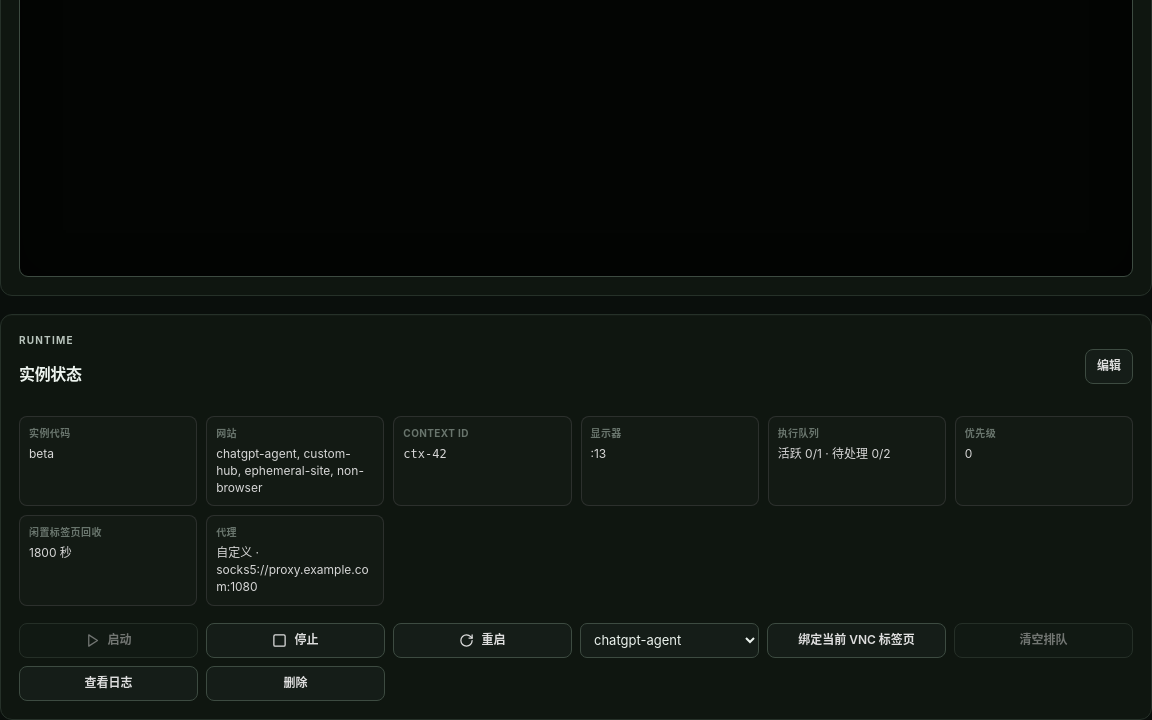
Test: InstanceDetailPage › confirms and binds an arbitrary selected third-party persistent site route with dynamic text
The image size is (1152, 720).
(page scrolled)
Select "custom-hub" in the dropdown named "绑定目标网站" at (670, 640), box [580,623,759,658]
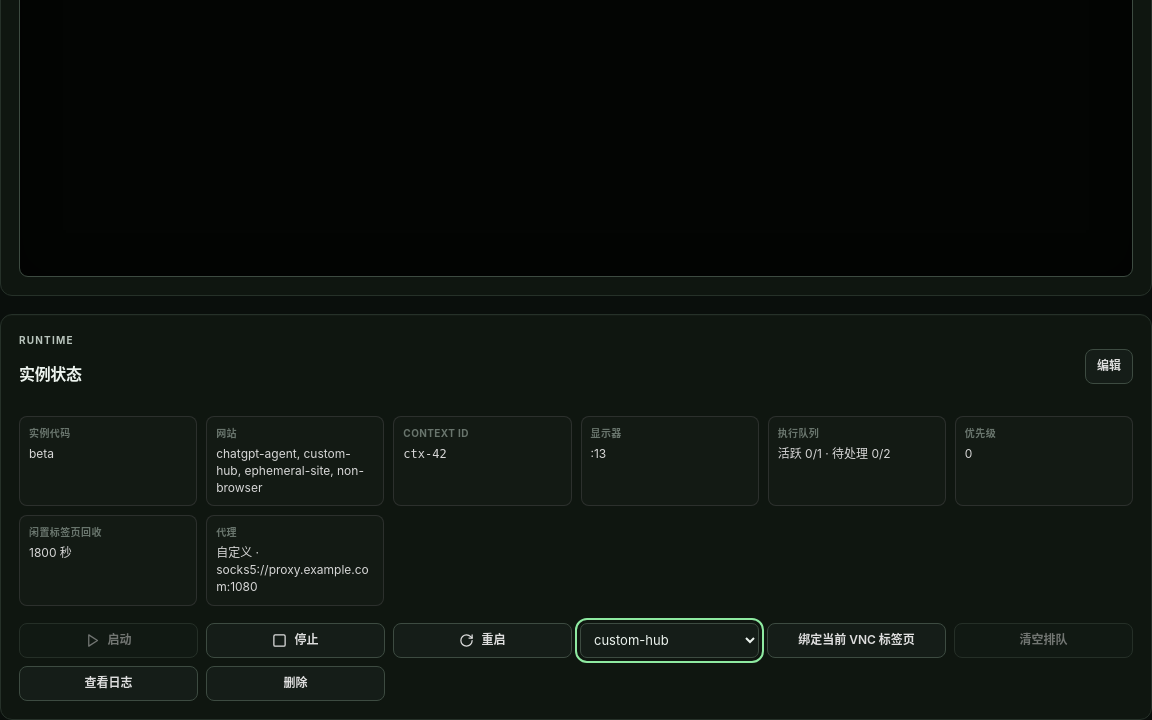
Click the button "绑定当前 VNC 标签页".
click(856, 640)  # box [767,623,946,658]
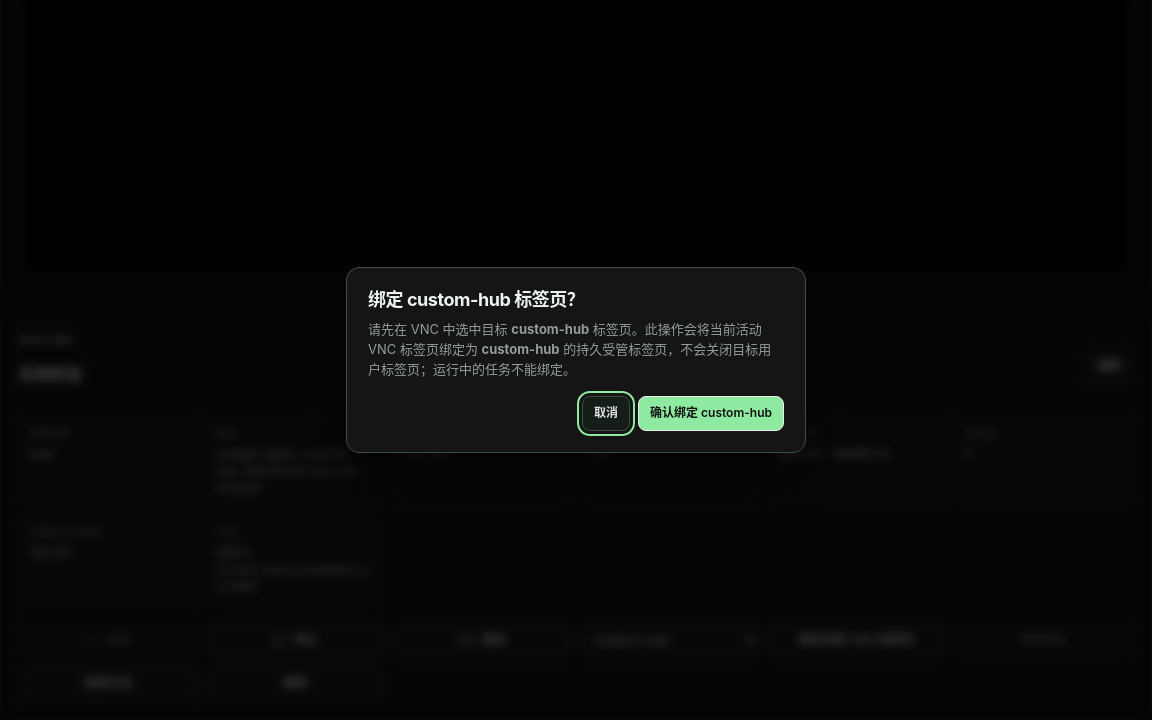
Check: the heading "绑定 custom-hub 标签页？" is shown, box [368,290,584,310]
Check: the text "请先在 VNC 中选中目标" shows "custom-hub", box [511,321,589,337]
Click the button "确认绑定 custom-hub".
click(711, 413)  # box [638,396,784,430]
(page scrolled)
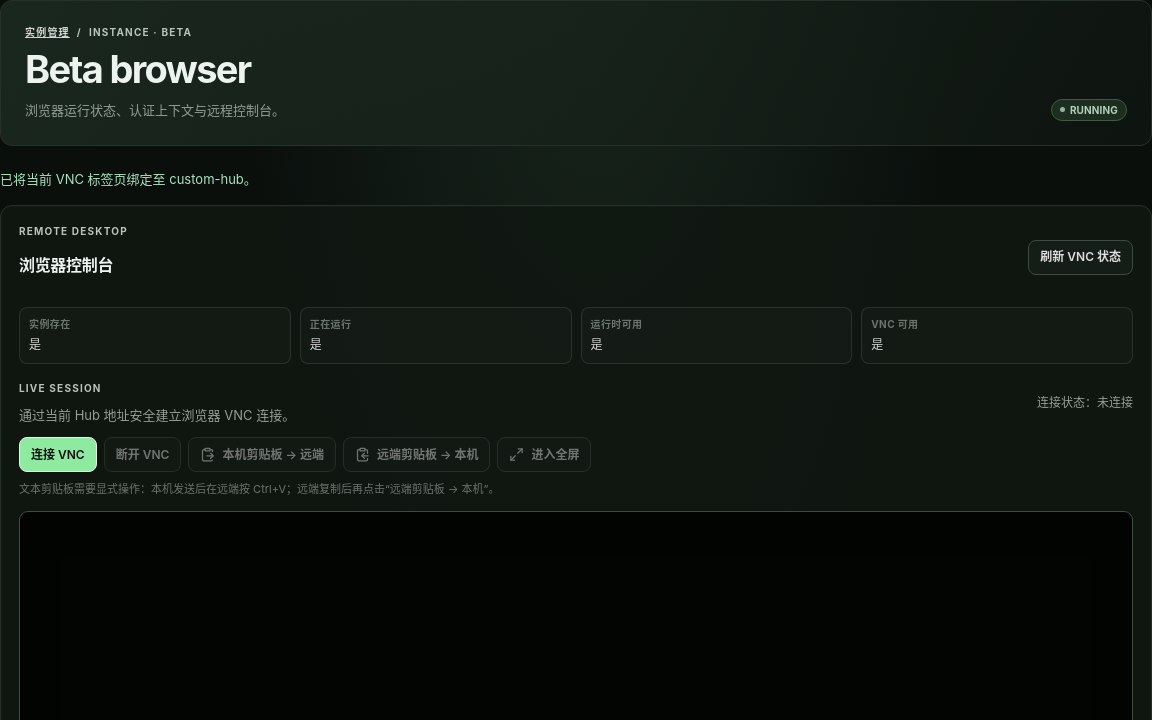
Check: the text "已将当前 VNC 标签页绑定至 custom-hub。" is shown, box [0,171,257,187]
